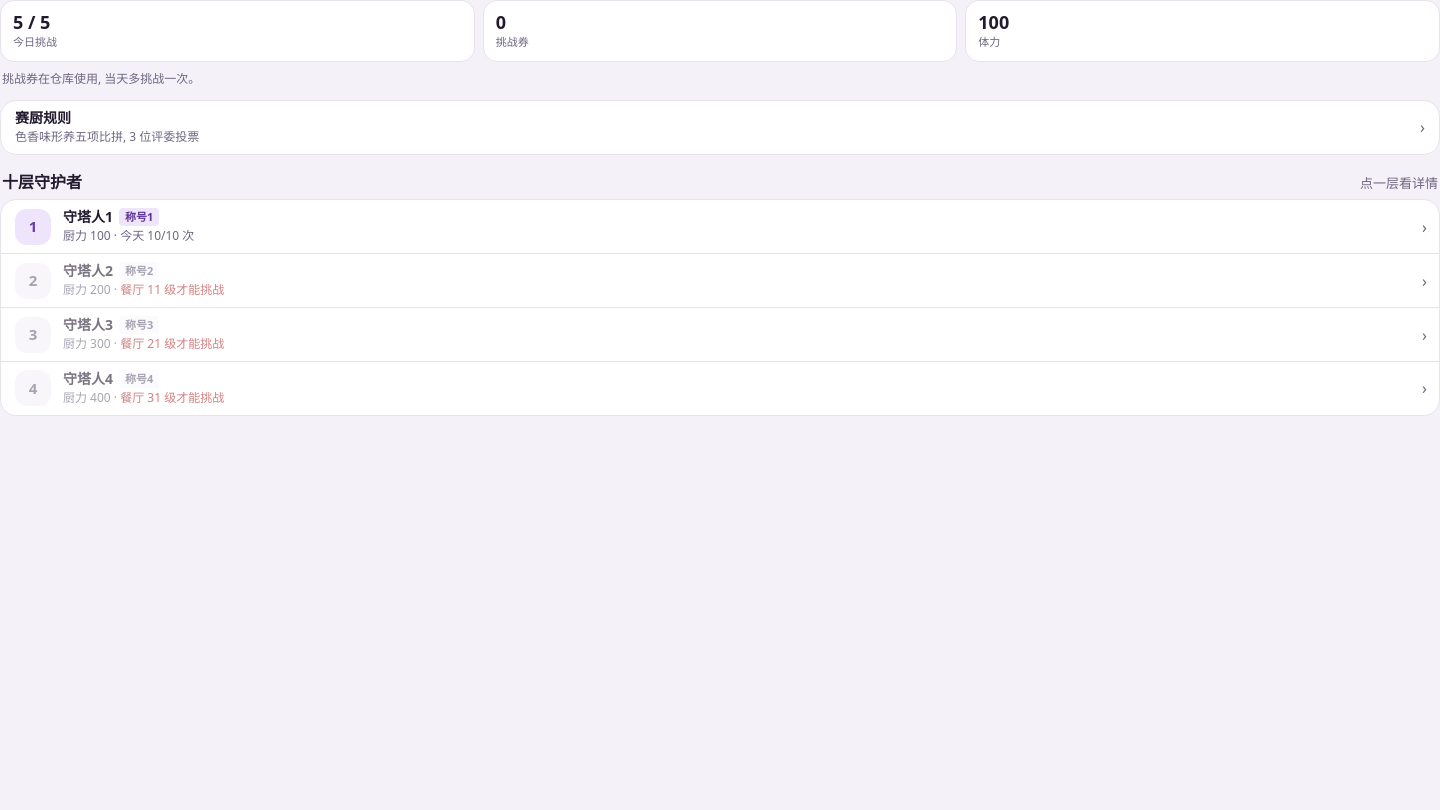
Scenario: 问题记录 230：次数提示用对手的名字 › 赛厨规则按厨塔接口给的评委数写（backlog 396 审查）
Step 1. Click the button with test id "duel-rules" → click(43, 117), box [1, 101, 1439, 154]
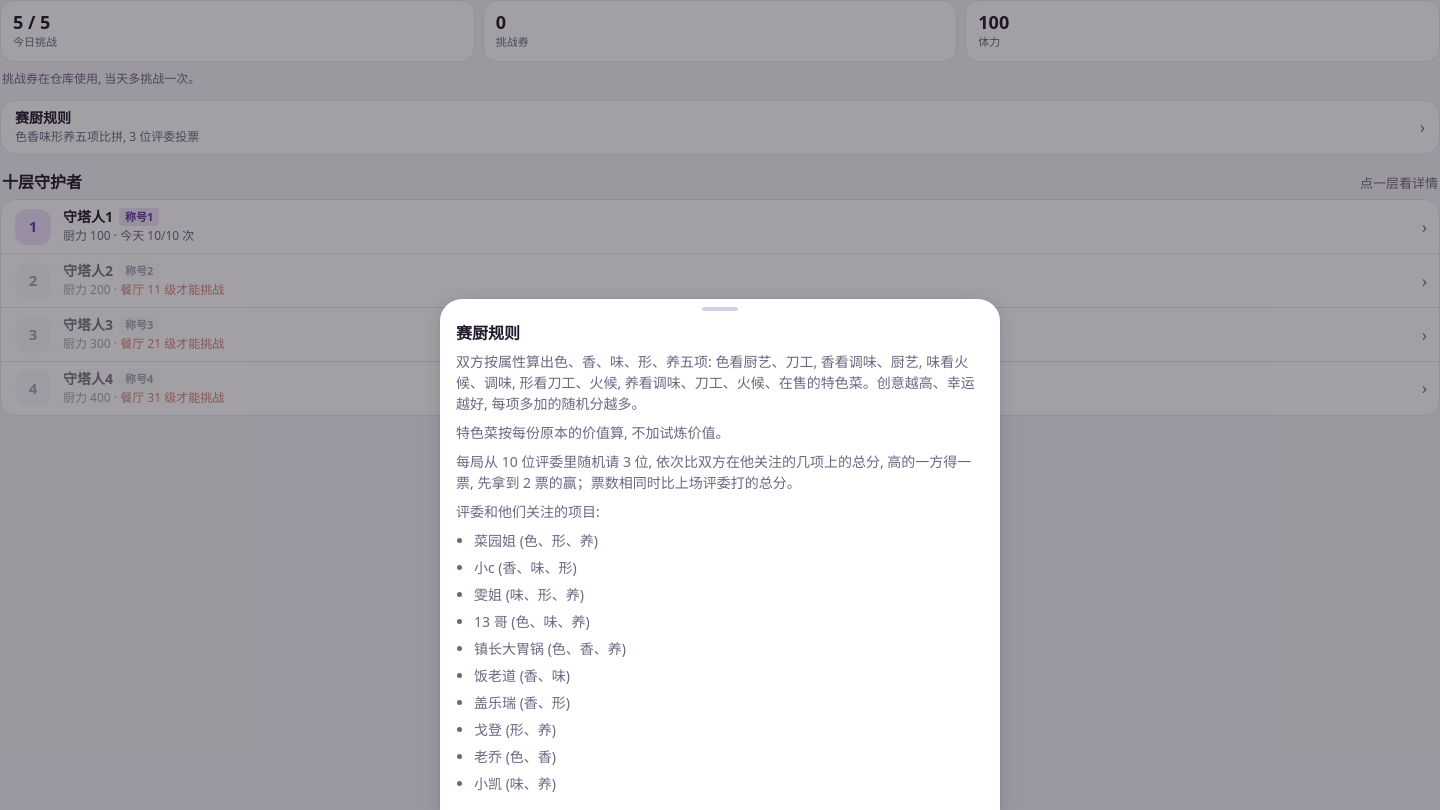
Expected: the element with test id "duel-rules-body" shows "随机请 3 位", [456, 452, 971, 492]
